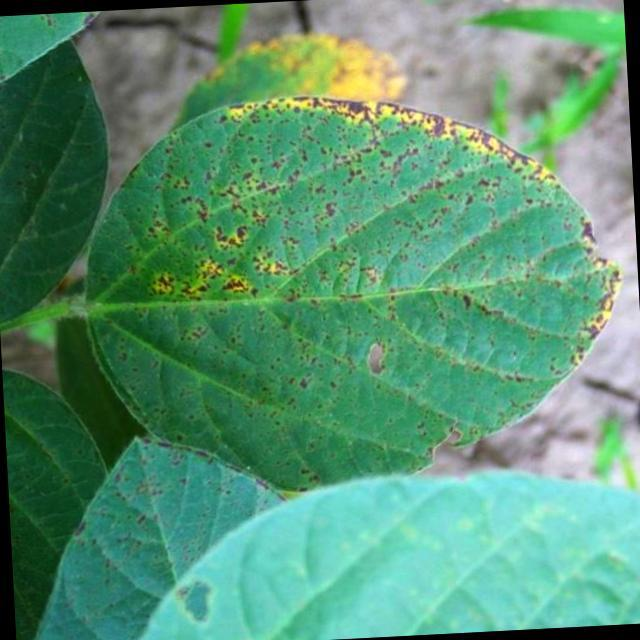Tomato Septoria spot leaf: (65, 76, 640, 489)
